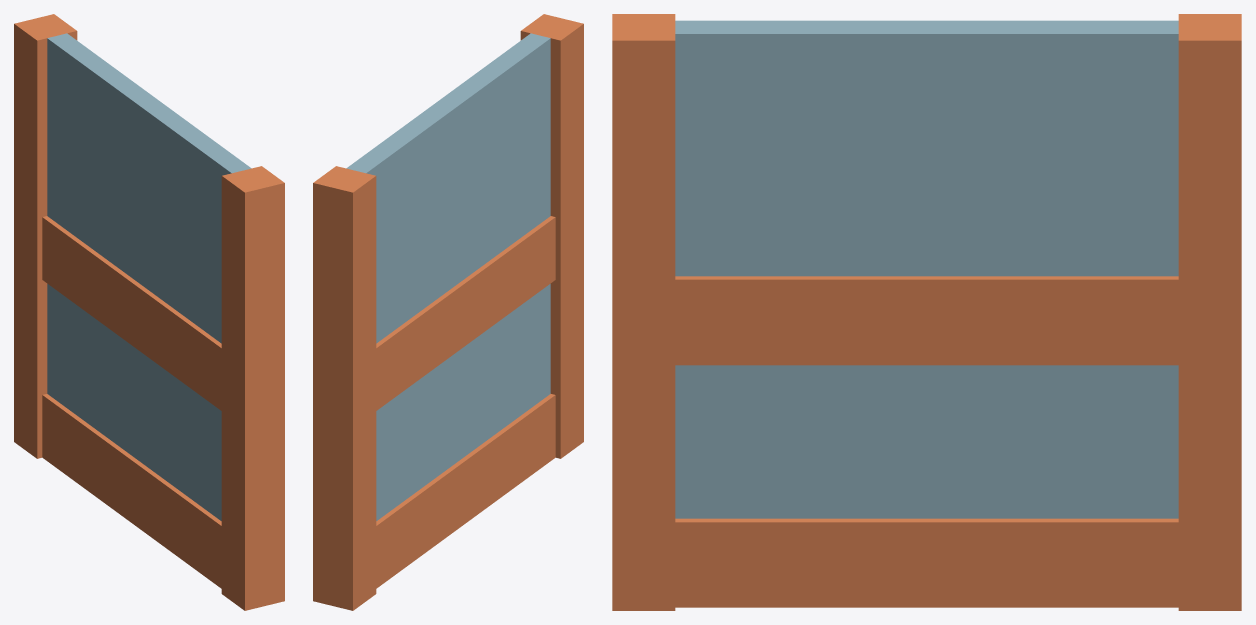
The model's file is wallDetailHorizontal.obj.
3 renders of one model, left to right at view 1: azimuth 30°, elevation 25°; view 2: azimuth 150°, elevation 25°; view 3: azimuth 270°, elevation 25°, orthographic. The views are drawn at different scales.
Parts seen in each view (by area): view 1: wallDetailHorizontal; view 2: wallDetailHorizontal; view 3: wallDetailHorizontal.
Part boxes in pixels (x1=…): wallDetailHorizontal: x1=14, y1=14, x2=284, y2=610; wallDetailHorizontal: x1=313, y1=14, x2=583, y2=610; wallDetailHorizontal: x1=612, y1=14, x2=1241, y2=610.
Bounding box in the file's own units: 0.1 × 1 × 1.
